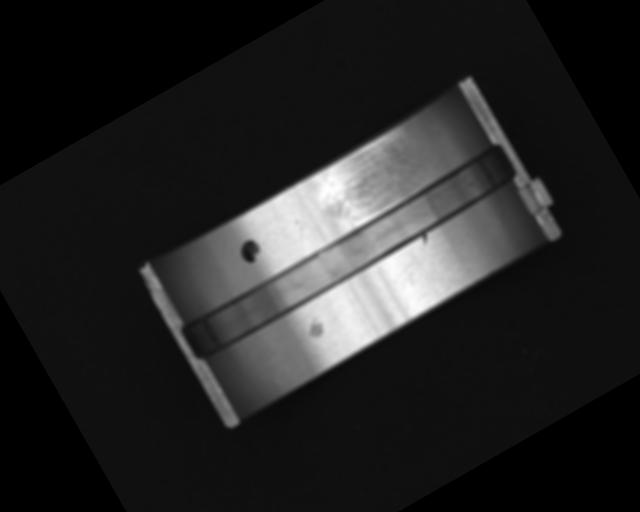blot: (235, 236, 264, 267)
bruise: (300, 313, 328, 343), (418, 232, 431, 247)
gap: (176, 141, 523, 364)
scratch: (306, 126, 431, 235)
